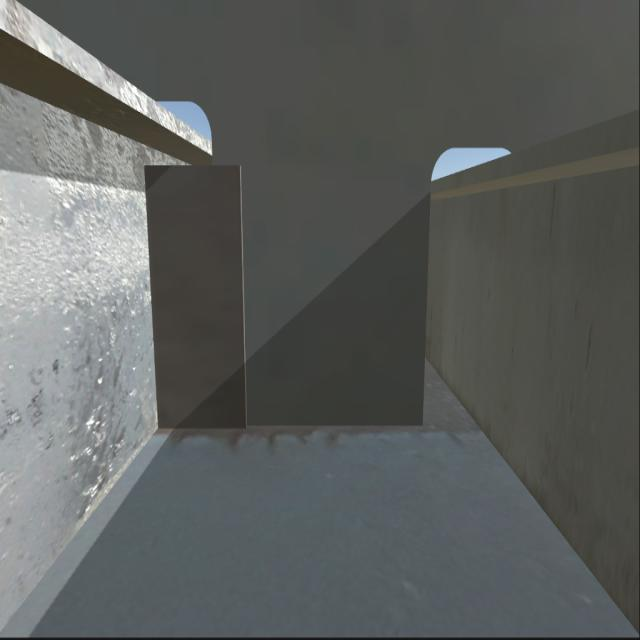fillet_yong_jeop_jang: (152, 420, 424, 432)
longi_yong_jeop_jang: (149, 168, 157, 427)
plate_CP01: (150, 165, 243, 422)
